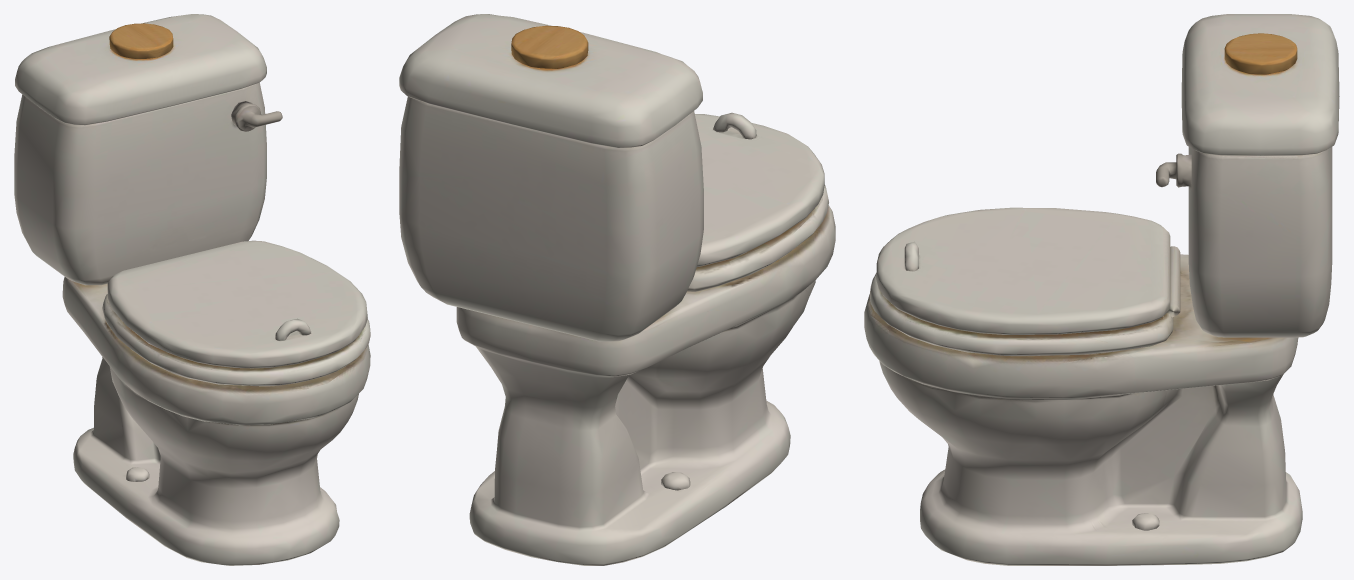
File: selected.glb
The picture shows the model from 3 angles, left to right: view 1: azimuth 30°, elevation 25°; view 2: azimuth 150°, elevation 25°; view 3: azimuth 270°, elevation 25°; orthographic projection. The views are drawn at different scales.
Visible parts, largest first — view 1: tripo_node_06bd78bd-3894-450a-9f59-423076d700e3; view 2: tripo_node_06bd78bd-3894-450a-9f59-423076d700e3; view 3: tripo_node_06bd78bd-3894-450a-9f59-423076d700e3.
Boxes of the visible parts, x1=… form: tripo_node_06bd78bd-3894-450a-9f59-423076d700e3: x1=14, y1=14, x2=370, y2=565; tripo_node_06bd78bd-3894-450a-9f59-423076d700e3: x1=399, y1=14, x2=835, y2=565; tripo_node_06bd78bd-3894-450a-9f59-423076d700e3: x1=864, y1=14, x2=1339, y2=565.
Size of the model in its own units: 0.5488 by 0.998 by 0.9043.
Materials: 1 (1 with a texture image).
